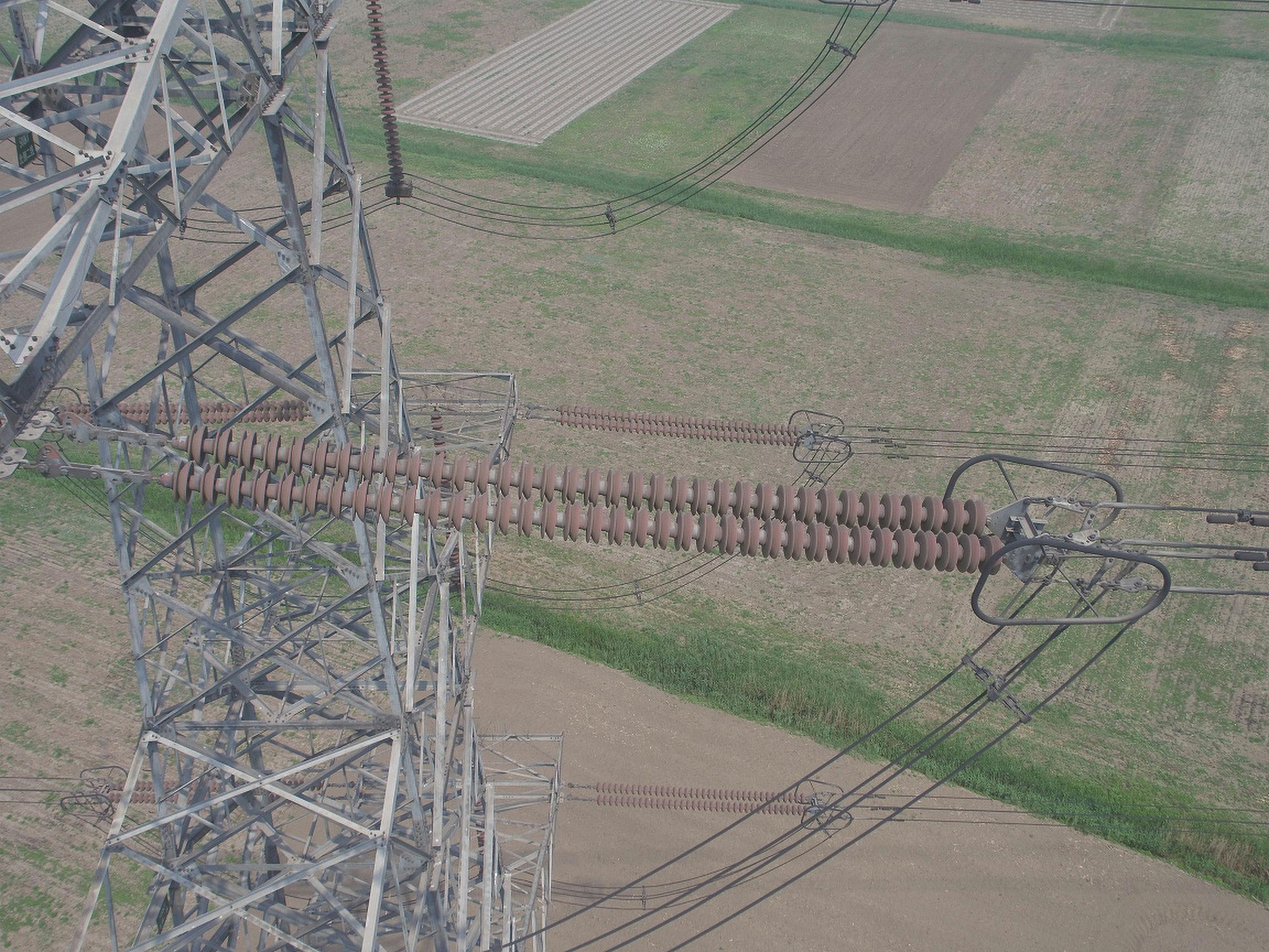insulator: (167, 420, 1006, 578), (556, 401, 804, 448), (593, 780, 810, 818), (56, 398, 307, 428), (365, 1, 406, 183), (105, 774, 330, 807)
